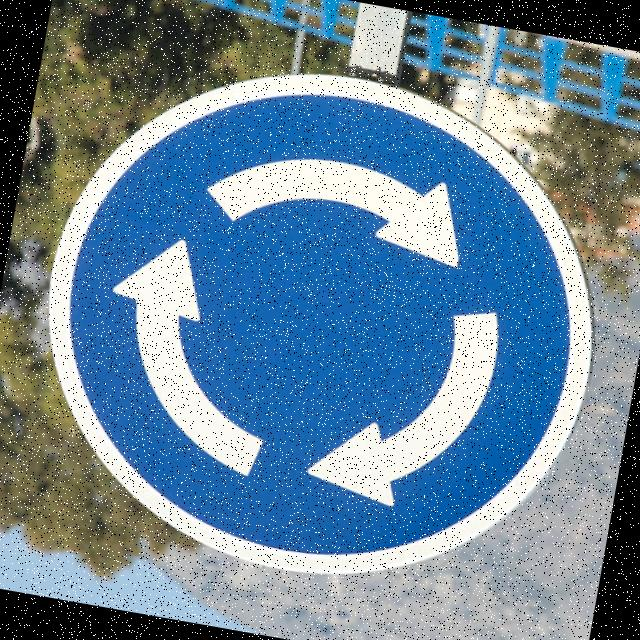round_about: (1, 23, 634, 622)
